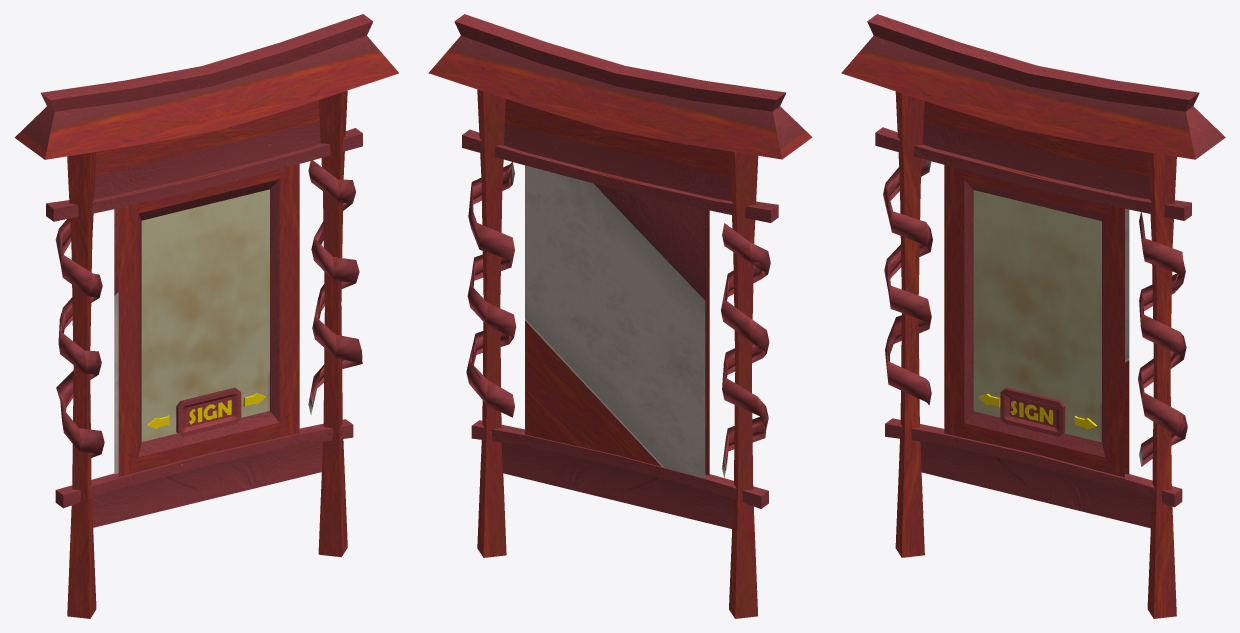
Rendered from Signbook.glb.
3 views of the same model, side by side, from view 1: azimuth 30°, elevation 25°; view 2: azimuth 150°, elevation 25°; view 3: azimuth 330°, elevation 25° (orthographic).
Parts seen in each view (by area): view 1: Signbook; view 2: Signbook; view 3: Signbook.
Part boxes in pixels (x1=…): Signbook: x1=14, y1=14, x2=398, y2=618; Signbook: x1=428, y1=14, x2=812, y2=618; Signbook: x1=841, y1=14, x2=1225, y2=618.
Size of the model in its own units: 3.7 by 5.25 by 0.5502.
3 materials, 2 textured.
